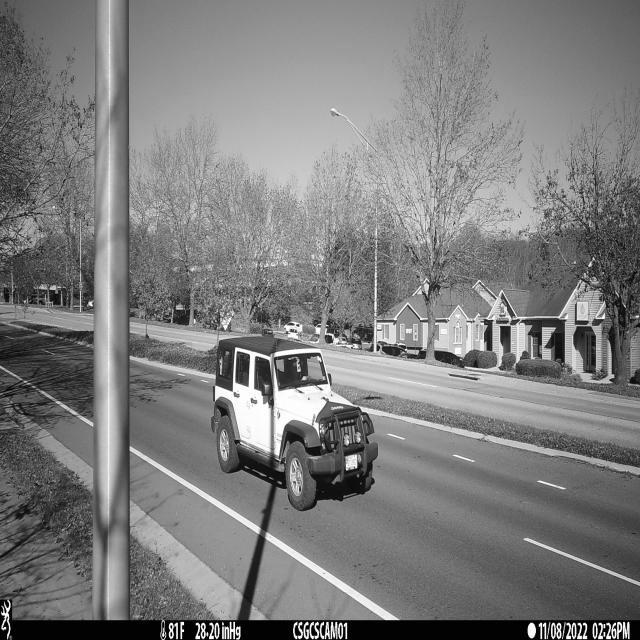SUV: (211, 335, 378, 512)
